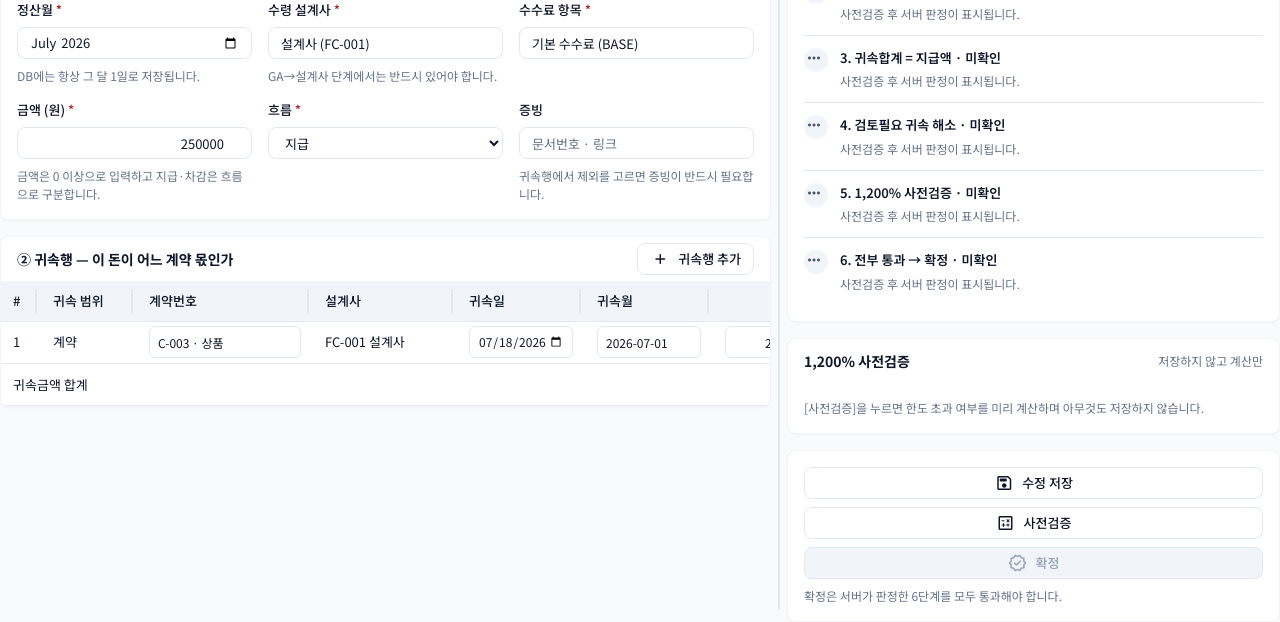
TRAN-W02 React form workflow › shows outside-first-year reasons alongside in-period previews: false
(page scrolled)
Click the button with id "btn-precheck" at (1034, 522), box top-left (804, 506), bottom-right (1263, 538)
(page scrolled)
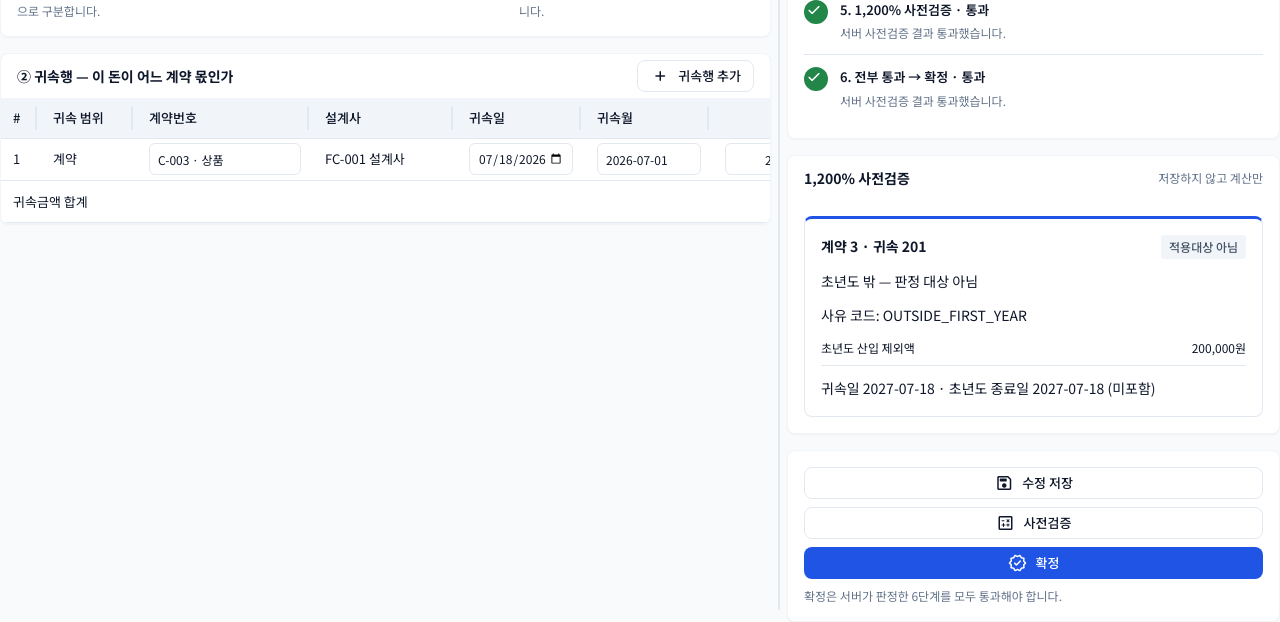
Now the text "초년도 밖 — 판정 대상 아님" is shown, box top-left (821, 270), bottom-right (978, 290)
Now the text "사유 코드: OUTSIDE_FIRST_YEAR" is shown, box top-left (821, 304), bottom-right (1027, 324)
Now the text "200,000원" is shown, box top-left (1192, 338), bottom-right (1246, 357)
